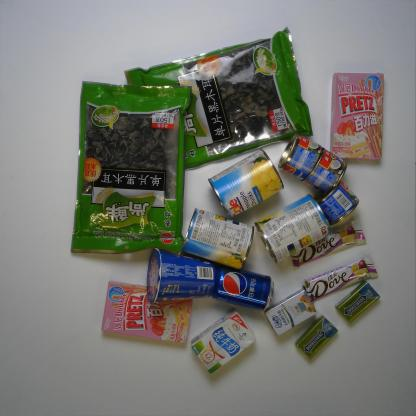Canned Food: (175, 198, 279, 272), (204, 134, 291, 219), (255, 185, 334, 271), (314, 177, 367, 233), (279, 128, 326, 185), (305, 146, 351, 192)
Chocolate: (283, 214, 373, 272), (303, 249, 384, 304)
Dessert: (95, 274, 220, 348), (328, 62, 394, 164), (137, 250, 219, 312)
Dried Food: (117, 18, 314, 175), (65, 64, 189, 262)
Drink: (197, 265, 290, 311)
Gum: (333, 278, 393, 324), (294, 313, 350, 360)
Milk: (182, 310, 276, 380), (266, 283, 321, 339)
